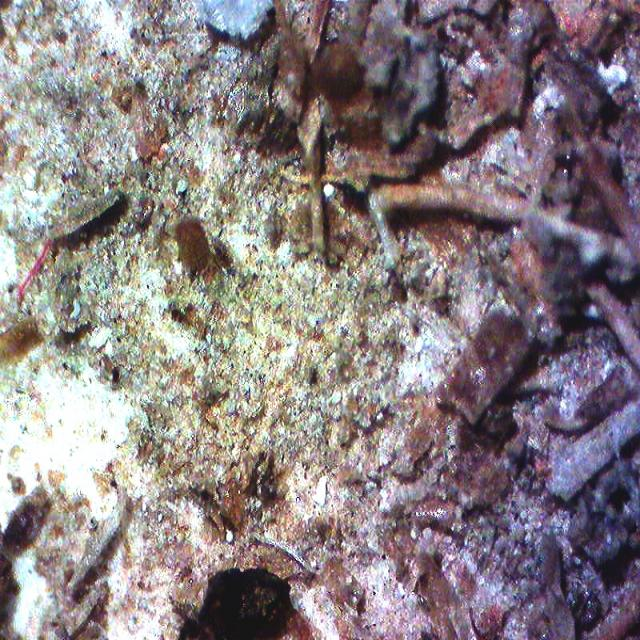microplastic: (20, 238, 51, 296)
